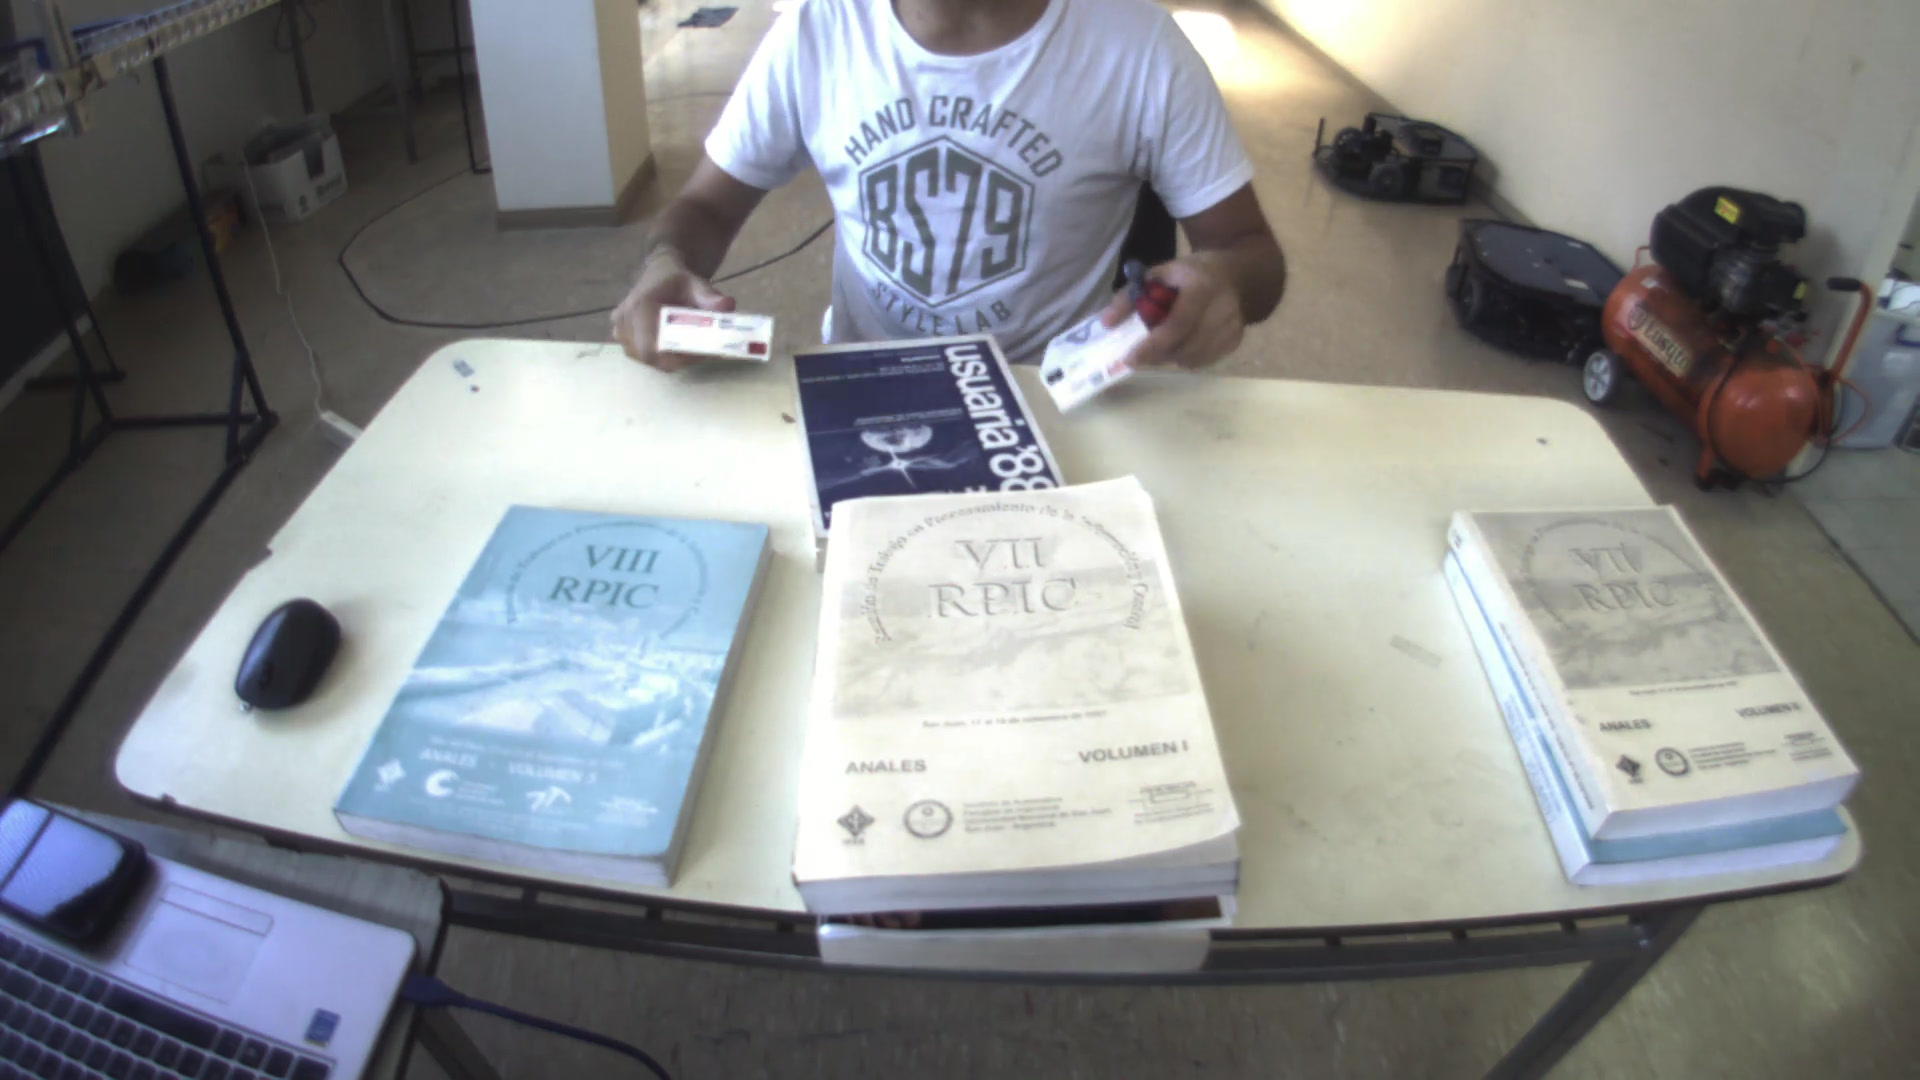hand: (1104, 249, 1249, 376), (597, 260, 742, 385)
